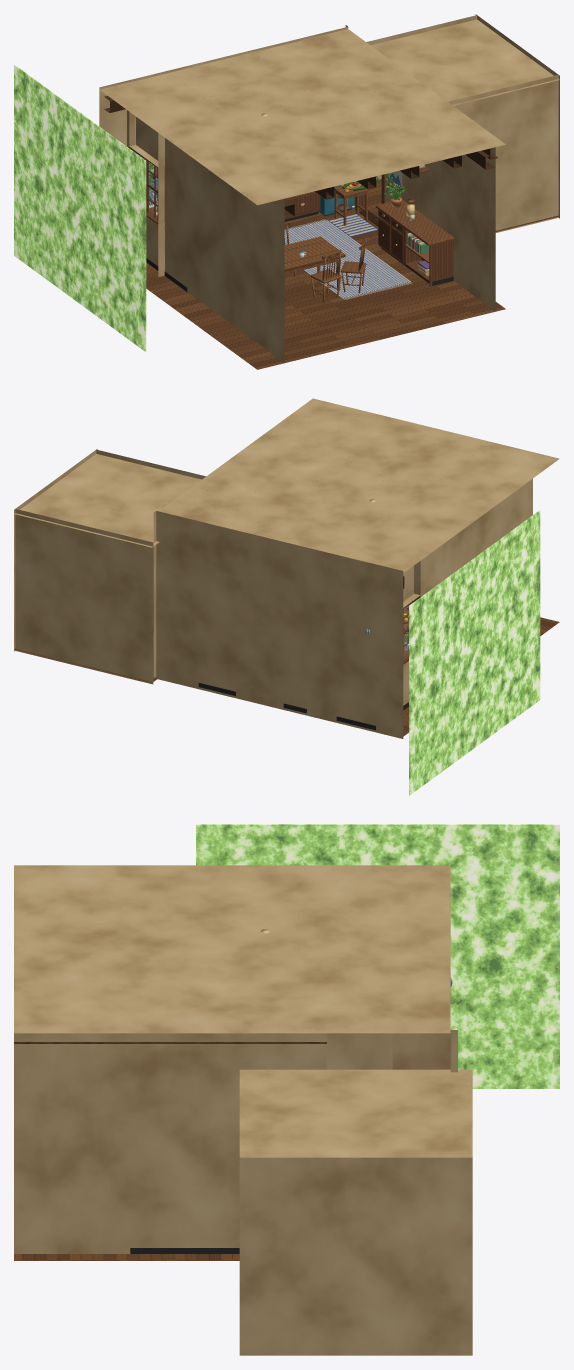
The model's file is kitchen_room_02.glb.
3 views of the same model, one above another, from view 1: azimuth 30°, elevation 25°; view 2: azimuth 150°, elevation 25°; view 3: azimuth 270°, elevation 25° (orthographic). The views are drawn at different scales.
Visible parts, largest first — view 1: ENV_Plaster_Wall, ENV_Outdoor_Foliage, ENV_Floor_Planks, ENV_Wood_Cabinet, ENV_Rug_Woven, ENV_Wood_Beam, ENV_Wood_TableTop, ENV_Wood_Counter, Chair_NearLeft, ENV_Wood_Table, ENV_Rug_Small, Chair_Right (+1 smaller); view 2: ENV_Plaster_Wall, ENV_Outdoor_Foliage, ENV_Floor_Planks, ENV_Black_Plastic; view 3: ENV_Plaster_Wall, ENV_Outdoor_Foliage, ENV_Floor_Planks, ENV_Black_Plastic.
Boxes of the visible parts, <box> form: ENV_Plaster_Wall: <box>99,14,559,362</box>; ENV_Outdoor_Foliage: <box>14,65,146,351</box>; ENV_Floor_Planks: <box>146,179,559,369</box>; ENV_Wood_Cabinet: <box>129,141,453,286</box>; ENV_Rug_Woven: <box>284,220,410,298</box>; ENV_Wood_Beam: <box>104,96,497,262</box>; ENV_Wood_TableTop: <box>284,236,345,290</box>; ENV_Wood_Counter: <box>149,199,454,245</box>; Chair_NearLeft: <box>310,250,341,302</box>; ENV_Wood_Table: <box>334,184,369,225</box>; ENV_Rug_Small: <box>328,214,378,236</box>; Chair_Right: <box>341,237,366,292</box>; ENV_Plaster_Wall: <box>14,398,559,738</box>; ENV_Outdoor_Foliage: <box>409,510,540,795</box>; ENV_Floor_Planks: <box>14,603,559,736</box>; ENV_Black_Plastic: <box>198,682,408,730</box>; ENV_Plaster_Wall: <box>14,865,472,1355</box>; ENV_Outdoor_Foliage: <box>196,824,559,1088</box>; ENV_Floor_Planks: <box>14,1254,239,1260</box>; ENV_Black_Plastic: <box>130,1248,239,1253</box>.
Size of the model in its own units: 9.44 by 4 by 7.5.
Materials: 81 (16 with a texture image).
